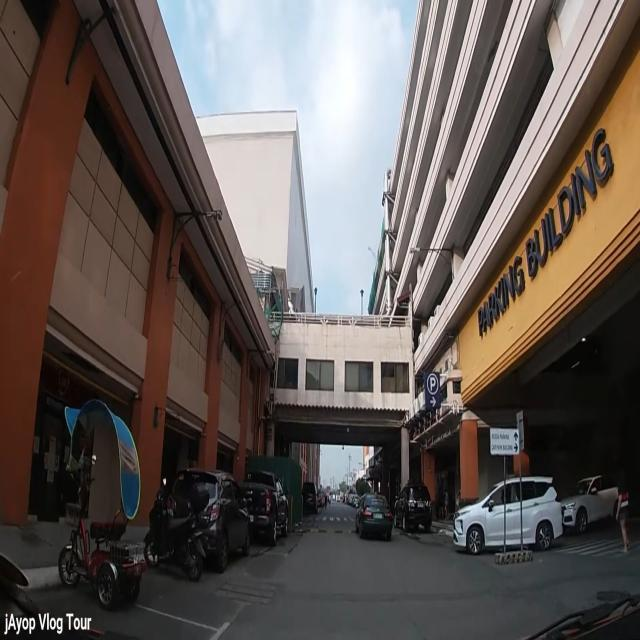car: (452, 474, 560, 554), (167, 469, 250, 571), (560, 474, 622, 534), (240, 470, 288, 544), (392, 483, 432, 534), (356, 493, 392, 541), (301, 482, 318, 516)
motorcycle: (144, 476, 208, 584)
tricycle: (56, 402, 144, 620)
